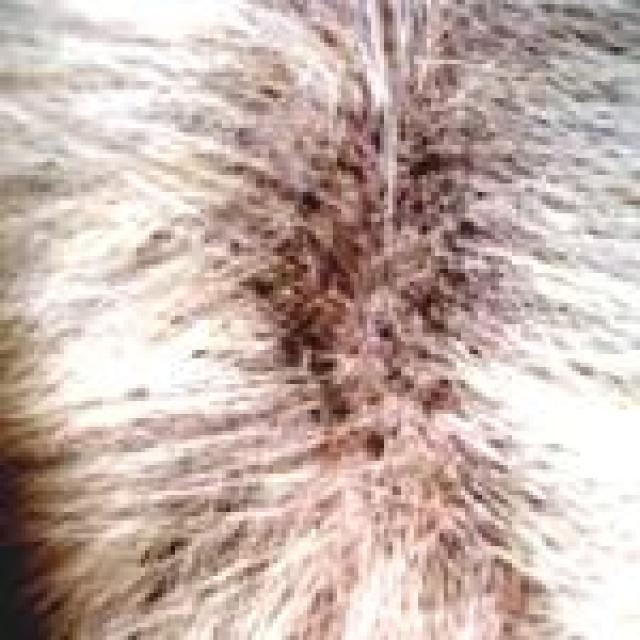fungal infection: (270, 89, 486, 452)
